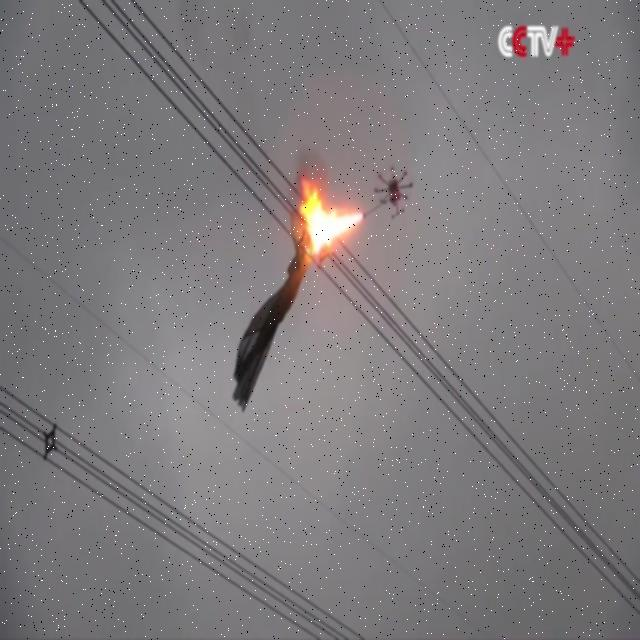UAV: (363, 167, 412, 219)
